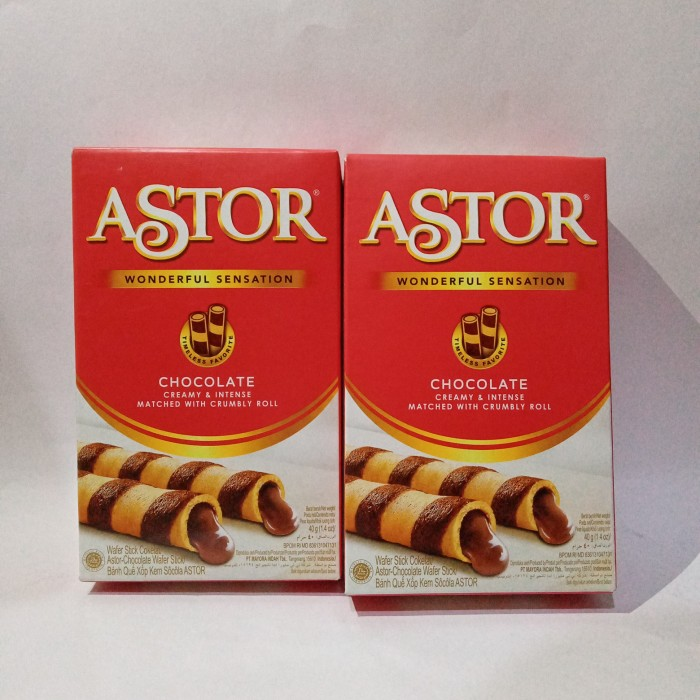Astor Chocolate (40g): (57, 130, 348, 597), (340, 144, 619, 601)
